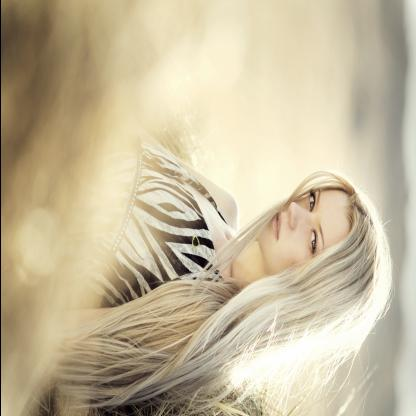Eye: (308, 224, 321, 256), (306, 186, 318, 214)
Mouth: (271, 208, 282, 242)
Nose: (286, 201, 313, 233)
